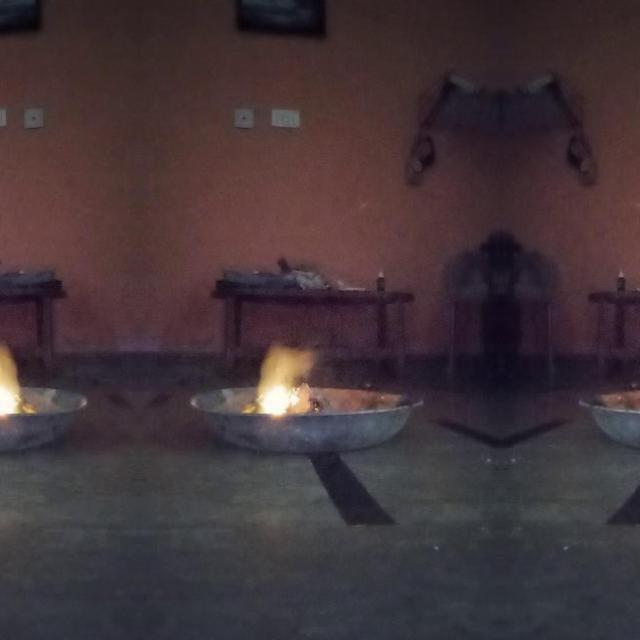smoke: (250, 376, 298, 420), (0, 376, 20, 419)
